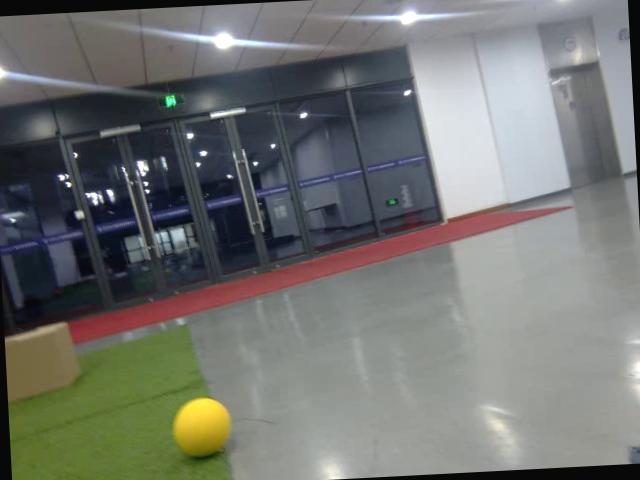yellow_ball: (170, 395, 232, 460)
